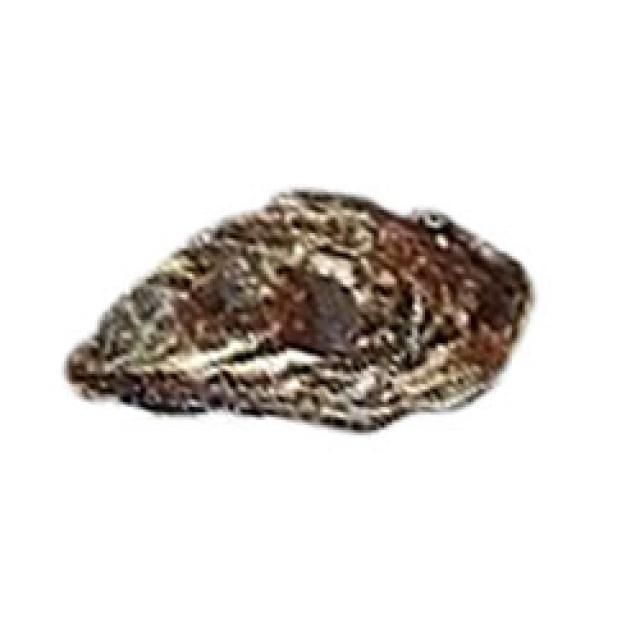Oyster- Indeterminate: (59, 179, 548, 447)
